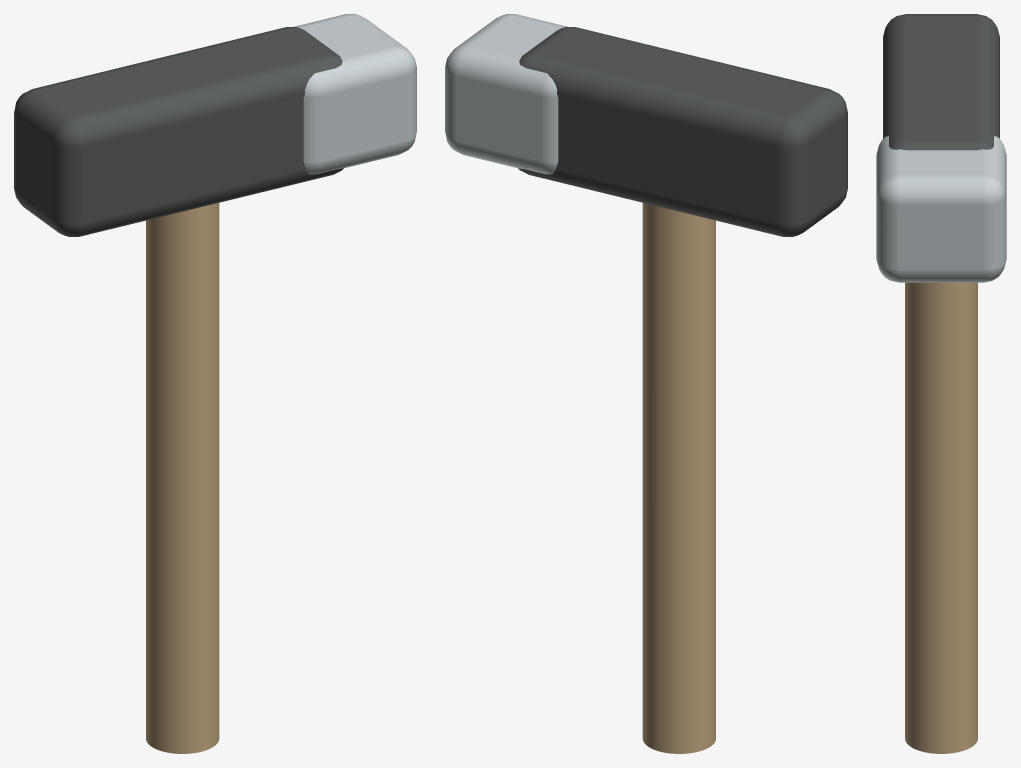
File: bookbinding-and-paper-mill-backing-hammer-dc562c0b__30581.glb
The picture shows the model from 3 angles, left to right: view 1: azimuth 30°, elevation 25°; view 2: azimuth 150°, elevation 25°; view 3: azimuth 270°, elevation 25°; orthographic projection.
Visible parts, largest first — view 1: backing-hammer; view 2: backing-hammer; view 3: backing-hammer.
Boxes of the visible parts, x1=… form: backing-hammer: x1=14, y1=14, x2=416, y2=753; backing-hammer: x1=445, y1=14, x2=847, y2=753; backing-hammer: x1=876, y1=14, x2=1006, y2=753.
Size of the model in its own units: 0.1575 by 0.28 by 0.05.
